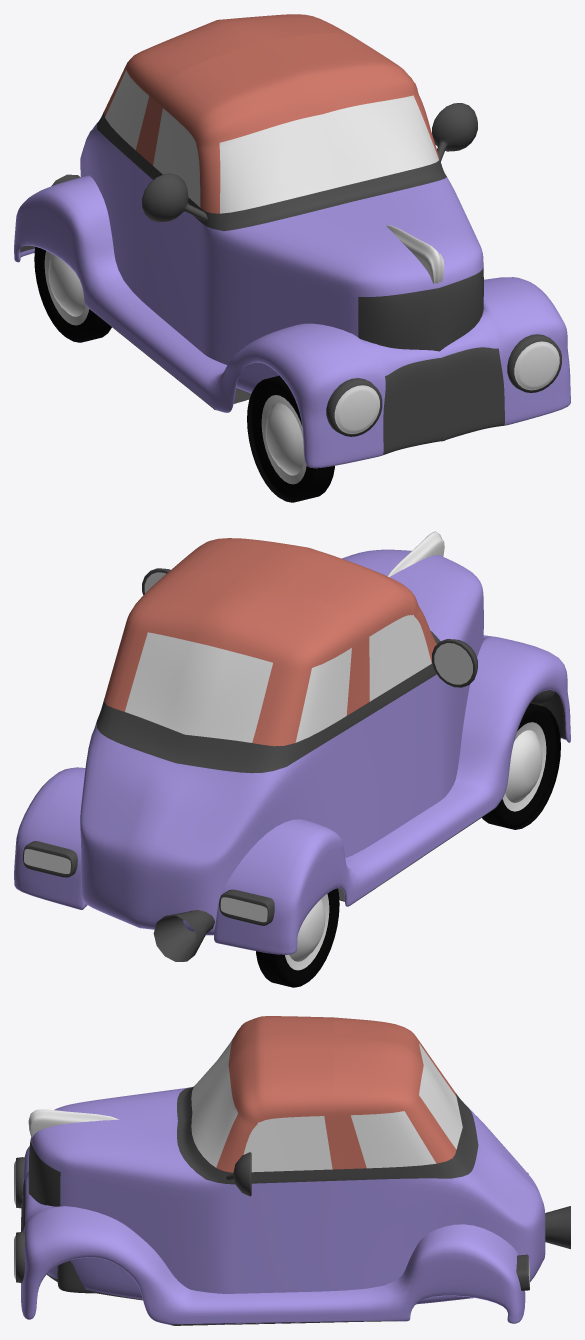
Rendered from cadilac 50s.fbx.
3 views of the same model, one above another, from view 1: azimuth 30°, elevation 25°; view 2: azimuth 150°, elevation 25°; view 3: azimuth 270°, elevation 25° (orthographic). The views are drawn at different scales.
Visible parts, largest first — view 1: Cadilac 50s, Cylinder.001, Cylinder.002, lefgt Wheel 50s; view 2: Cadilac 50s, Cylinder.001, Cylinder.002, lefgt Wheel 50s; view 3: Cadilac 50s.
Part boxes in pixels (x1=…): Cadilac 50s: x1=14, y1=14, x2=570, y2=468; Cylinder.001: x1=251, y1=375, x2=334, y2=501; Cylinder.002: x1=34, y1=246, x2=111, y2=342; lefgt Wheel 50s: x1=247, y1=379, x2=296, y2=502; Cadilac 50s: x1=14, y1=531, x2=570, y2=961; Cylinder.001: x1=482, y1=703, x2=556, y2=828; Cylinder.002: x1=256, y1=888, x2=339, y2=987; lefgt Wheel 50s: x1=511, y1=706, x2=560, y2=829; Cadilac 50s: x1=14, y1=1016, x2=570, y2=1325.
Size of the model in its own units: 5.61 by 5.16 by 9.51.
